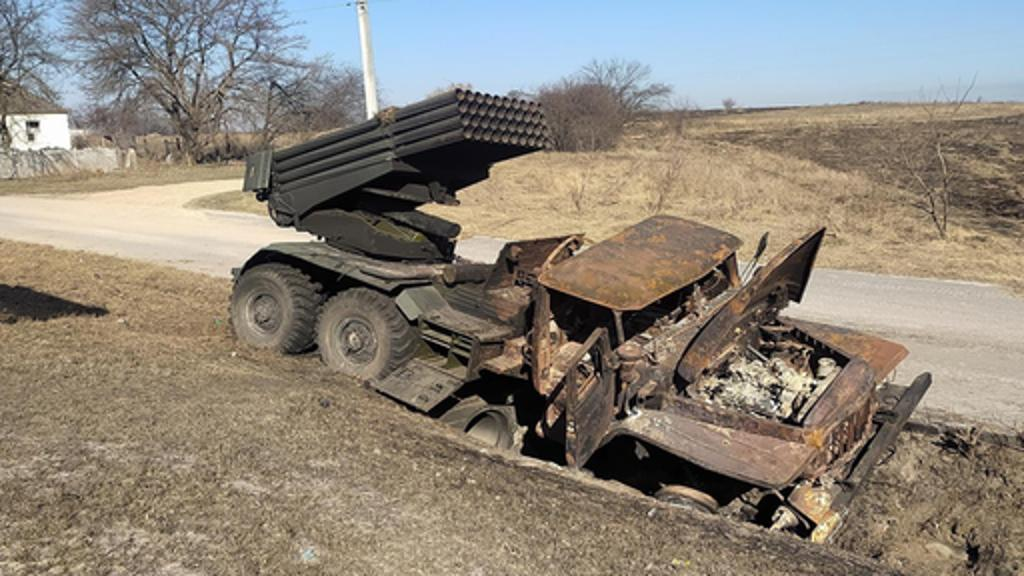MLRS: (222, 76, 934, 562)
